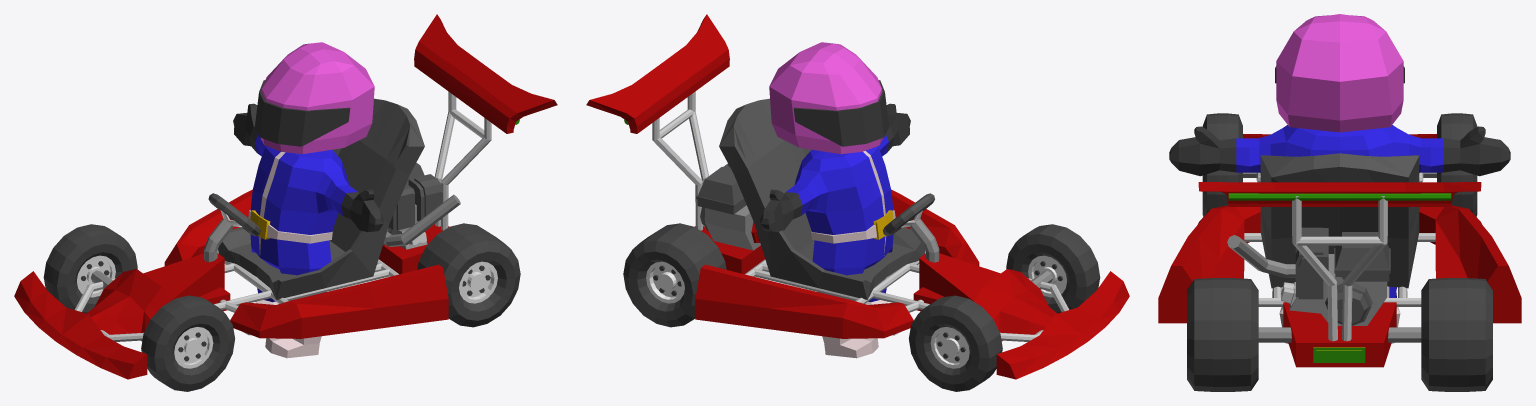
Rendered from AdiGcar.fbx.
The picture shows the model from 3 angles, left to right: view 1: azimuth 30°, elevation 25°; view 2: azimuth 150°, elevation 25°; view 3: azimuth 270°, elevation 25°; orthographic projection. The views are drawn at different scales.
Parts seen in each view (by area): view 1: Go Kart, Adrian, Cylinder007, Cylinder002; view 2: Go Kart, Adrian, Cylinder007, Cylinder002; view 3: Go Kart, Adrian, Cylinder002, Cylinder007.
Part boxes in pixels (<box>): Go Kart: <box>14,14,557,379</box>; Adrian: <box>233,42,383,358</box>; Cylinder007: <box>43,224,235,391</box>; Cylinder002: <box>417,223,520,327</box>; Go Kart: <box>586,14,1129,379</box>; Adrian: <box>760,42,910,358</box>; Cylinder007: <box>908,224,1100,391</box>; Cylinder002: <box>623,223,726,327</box>; Go Kart: <box>1158,134,1521,367</box>; Adrian: <box>1169,14,1510,343</box>; Cylinder002: <box>1187,278,1492,391</box>; Cylinder007: <box>1202,113,1477,216</box>.
Bounding box in the file's own units: 249 × 152 × 147.
